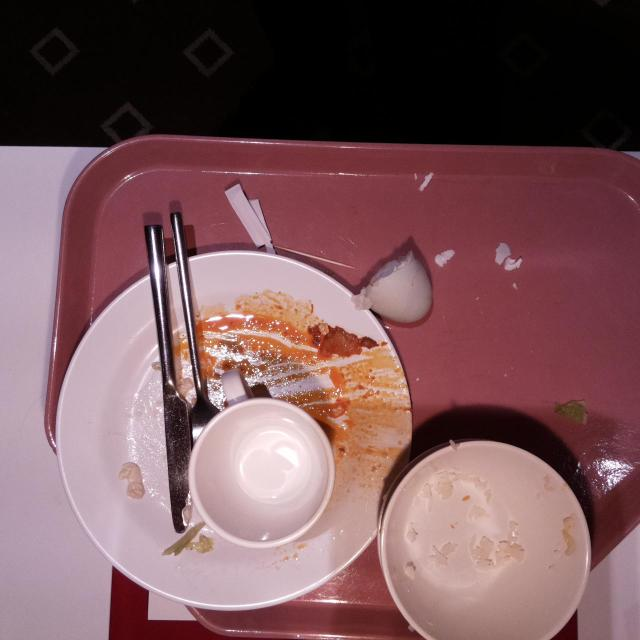Egg-shell: (350, 251, 436, 323)
